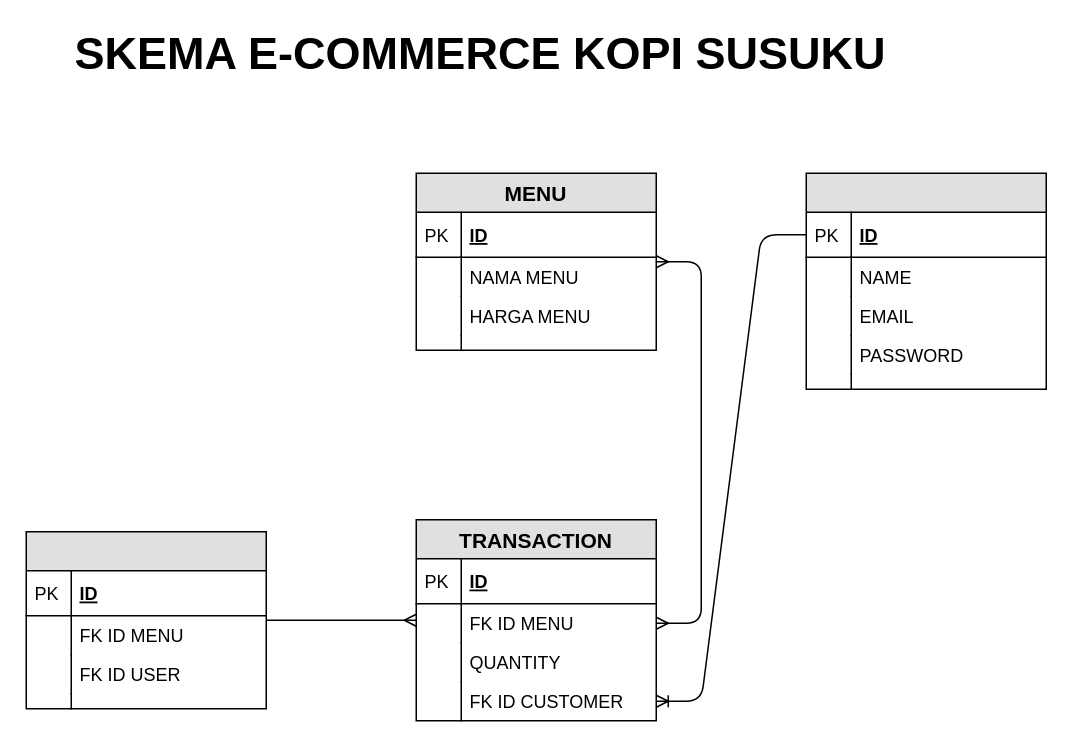
Image size: 1073x750. Some labels were removed from this diagram. Here are the shapes that lost their labels. From the top down, the box of each, then its label:
(805, 172, 1046, 389): Customer
(25, 530, 266, 709): INVOICE
